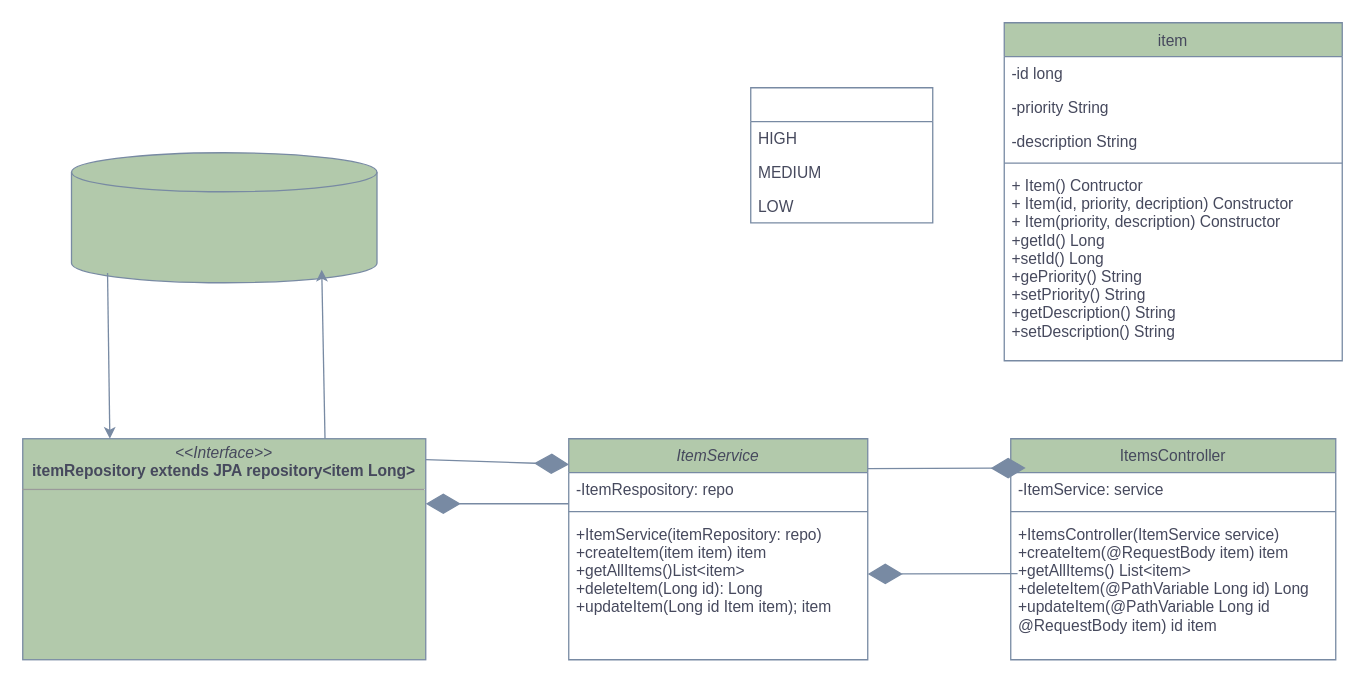
Some shapes in this 1365 by 686 pixel diagram are drawn without their labels. Here are the shapes that lost their labels. From the top down, the box of each, then its label:
(749, 86, 933, 223): Priority
(70, 151, 377, 283): my SQL database
